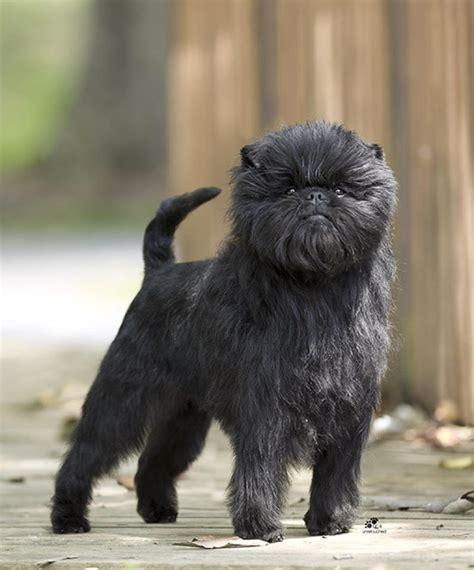dog: (52, 124, 396, 539)
